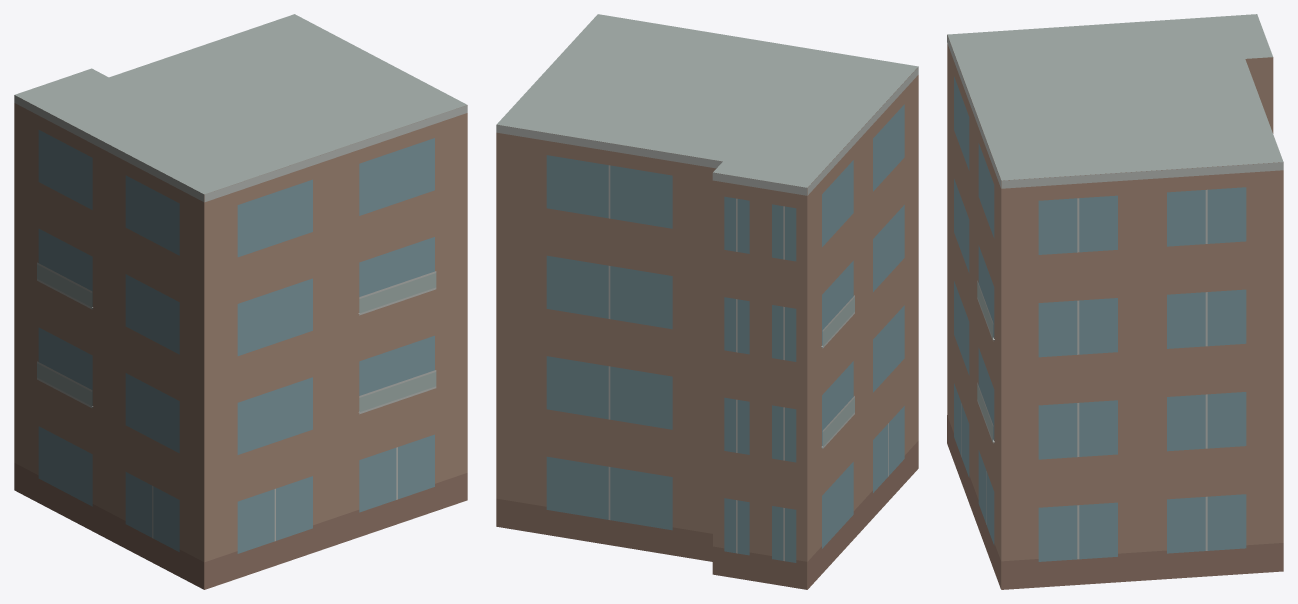
Rendered from residential-d8e79351-501d-458a-8051-a604ffeda3fc.glb.
The picture shows the model from 3 angles, left to right: view 1: azimuth 30°, elevation 25°; view 2: azimuth 150°, elevation 25°; view 3: azimuth 270°, elevation 25°; orthographic projection. The views are drawn at different scales.
Visible parts, largest first — view 1: residential-d8e79351-501d-458a-8051-a604ffeda3fc.tmp; view 2: residential-d8e79351-501d-458a-8051-a604ffeda3fc.tmp; view 3: residential-d8e79351-501d-458a-8051-a604ffeda3fc.tmp.
Boxes of the visible parts, box(x1,y1,x2,y2) form: residential-d8e79351-501d-458a-8051-a604ffeda3fc.tmp: box(14, 14, 467, 589); residential-d8e79351-501d-458a-8051-a604ffeda3fc.tmp: box(496, 14, 918, 589); residential-d8e79351-501d-458a-8051-a604ffeda3fc.tmp: box(947, 14, 1283, 589).
Bounding box in the file's own units: 10.66 × 12.2 × 9.1.
